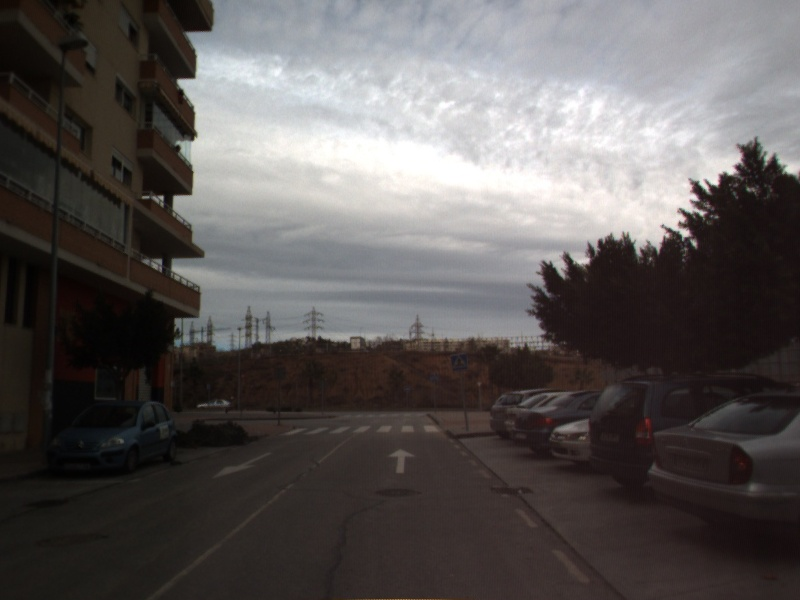STRAIGHT: (386, 447, 418, 475)
